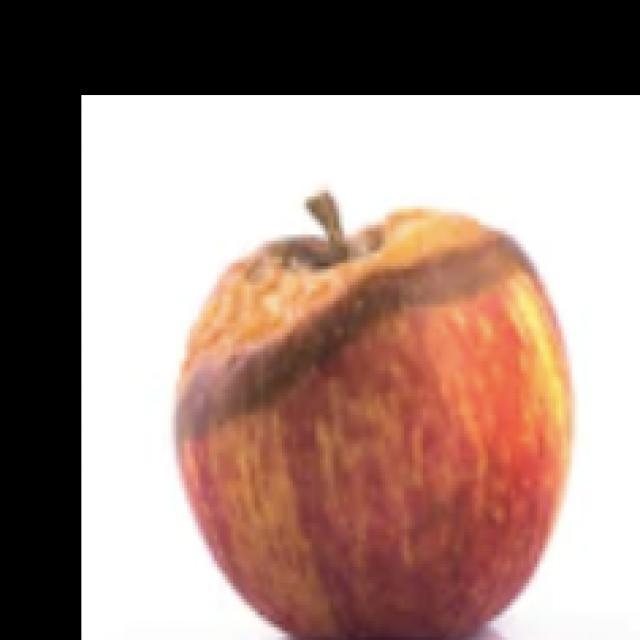Rotten: (168, 206, 580, 640)
